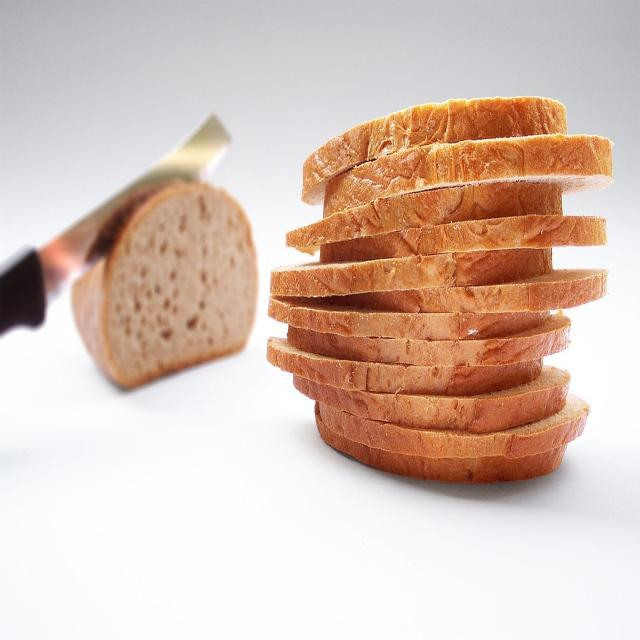Knife: (0, 116, 230, 333)
